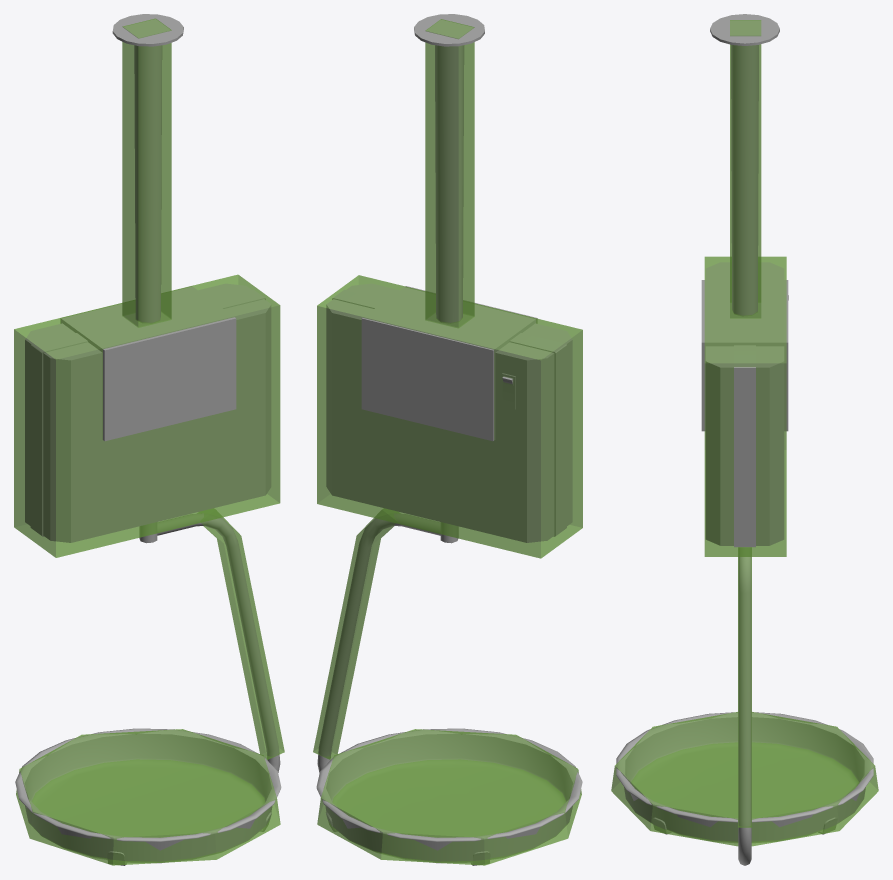
File: p_Scale_01_a.fbx
3 views of the same model, side by side, from view 1: azimuth 30°, elevation 25°; view 2: azimuth 150°, elevation 25°; view 3: azimuth 270°, elevation 25° (orthographic). The views are drawn at different scales.
Parts seen in each view (by area): view 1: p_Scale_01_a_col, p_Scale_01_a_LOD0; view 2: p_Scale_01_a_col, p_Scale_01_a_LOD0; view 3: p_Scale_01_a_LOD0, p_Scale_01_a_col.
Part boxes in pixels (x1,y1,x2,y2): p_Scale_01_a_col: [14, 18, 284, 865]; p_Scale_01_a_LOD0: [15, 14, 281, 865]; p_Scale_01_a_col: [313, 19, 582, 865]; p_Scale_01_a_LOD0: [316, 14, 582, 865]; p_Scale_01_a_LOD0: [616, 14, 873, 865]; p_Scale_01_a_col: [611, 20, 878, 846].
Size of what is drawn, in the model's own units: 42.18 by 130 by 39.78.
